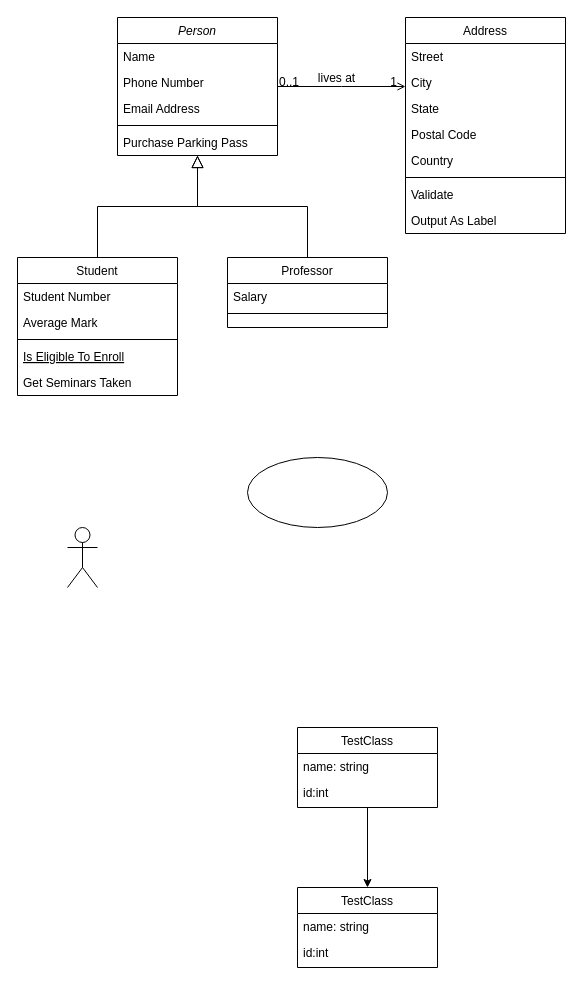
The diagram is 583 pixels wide and 988 high, and some of its shapes have lost their labels. The centre of each missing label's shape, as x and y in pixels:
Actor: the point at 82,557
Use Case: the point at 317,492
